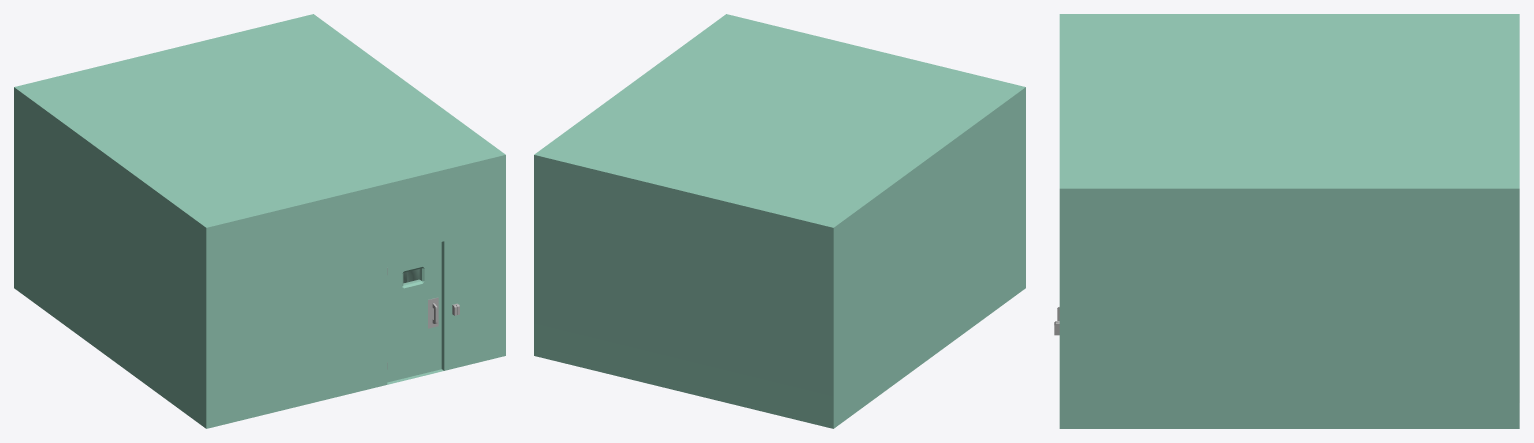
The model's file is Padded Cell.FBX.
3 views of the same model, side by side, from view 1: azimuth 30°, elevation 25°; view 2: azimuth 150°, elevation 25°; view 3: azimuth 270°, elevation 25° (orthographic). The views are drawn at different scales.
Visible parts, largest first — view 1: Padded_Cell, door; view 2: Padded_Cell; view 3: Padded_Cell.
Boxes of the visible parts, box(x1,y1,x2,y2) form: Padded_Cell: box(14, 14, 505, 428); door: box(387, 242, 441, 382); Padded_Cell: box(534, 14, 1025, 428); Padded_Cell: box(1059, 14, 1519, 428).
Size of the model in its own units: 119 by 134 by 76.51.
